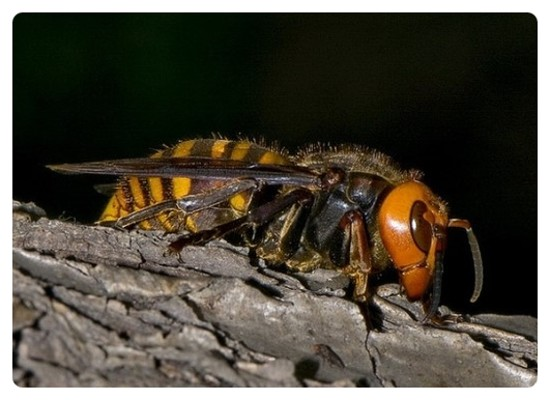asian_giant_hornet: (95, 133, 486, 304)
